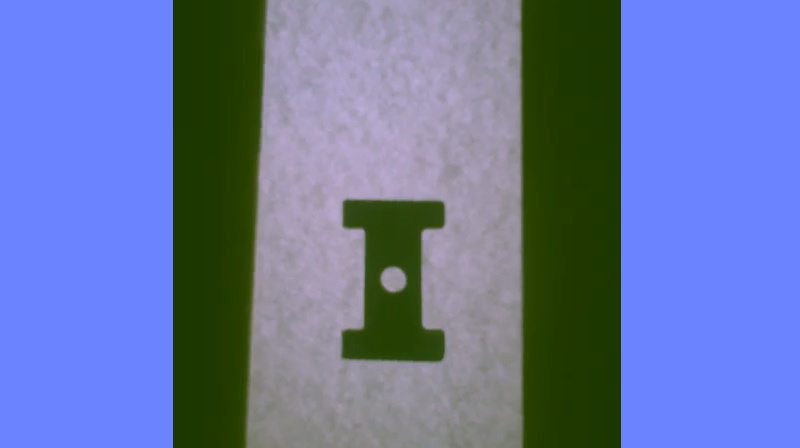O002: (338, 193, 450, 366)
